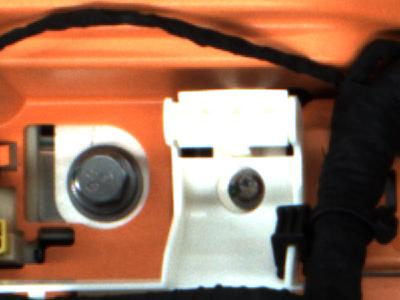nut_b: (58, 144, 147, 221)
